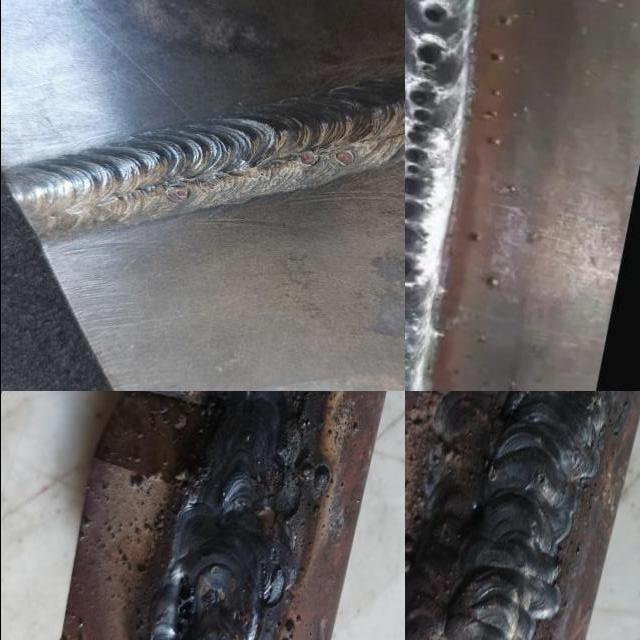defect: (404, 76, 439, 281), (171, 569, 195, 640), (406, 39, 447, 69), (416, 1, 448, 25), (330, 147, 357, 169), (294, 149, 318, 169), (199, 175, 223, 192), (164, 187, 188, 204), (530, 468, 548, 487), (252, 168, 272, 182)
